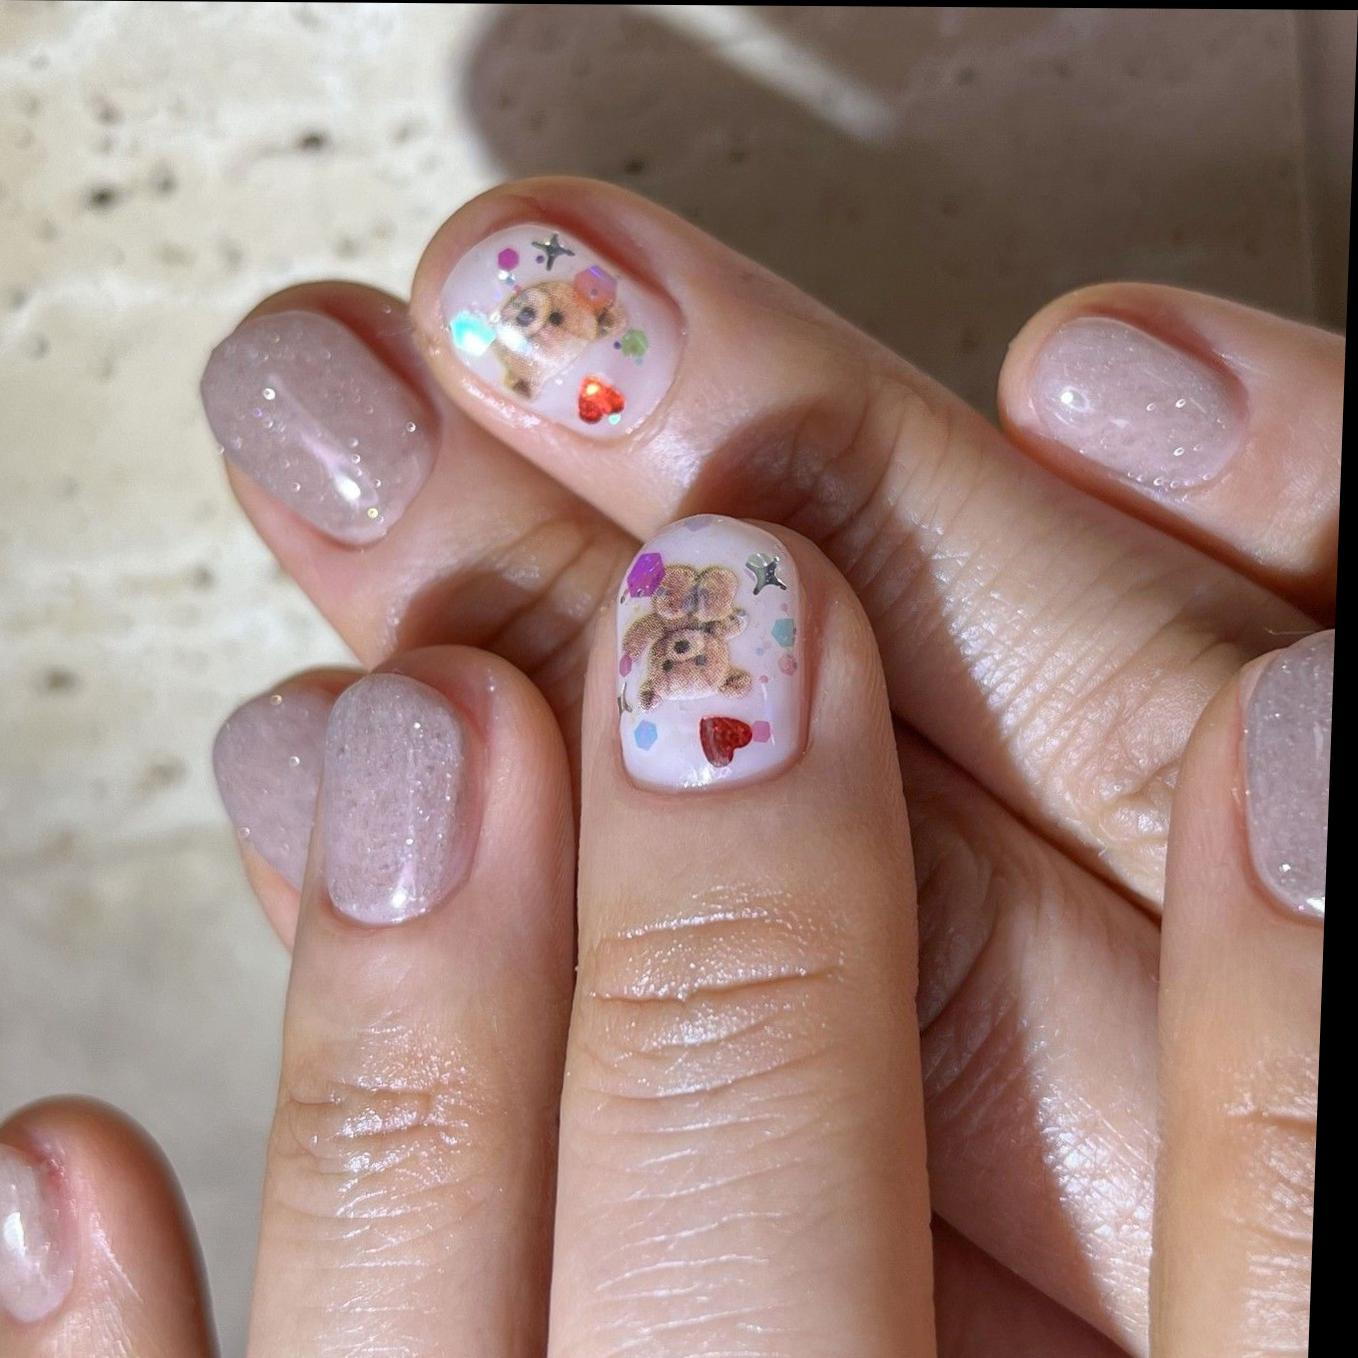nail: (194, 305, 448, 551), (608, 514, 822, 798), (429, 218, 692, 442), (314, 671, 486, 931), (1024, 311, 1255, 501), (207, 669, 366, 894), (1232, 626, 1335, 932), (0, 1136, 86, 1327)
